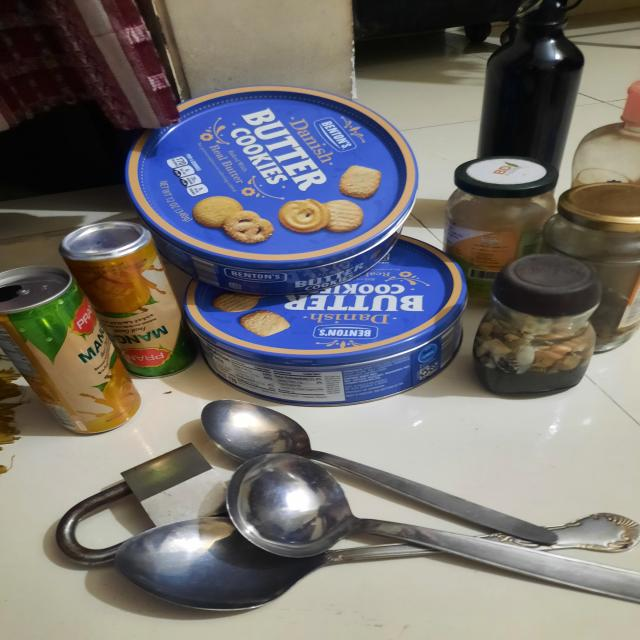Metal: (0, 393, 640, 638)
can: (0, 76, 438, 401), (450, 0, 586, 189)
